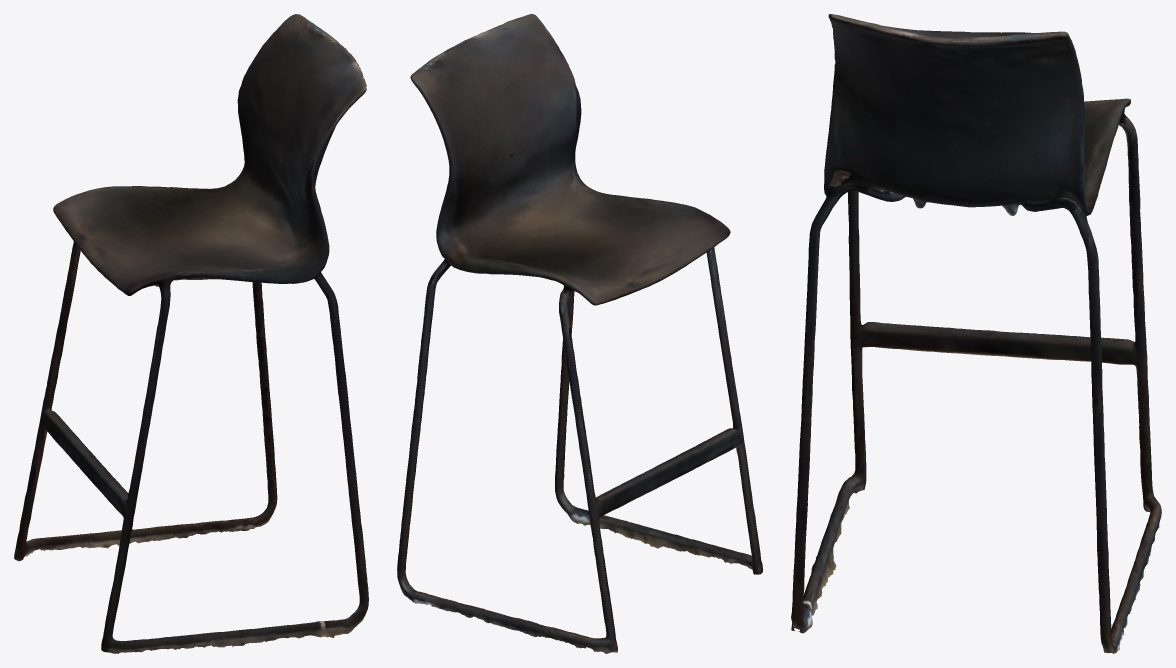
The model's file is black_chair_textured_mesh_lowpoly_glb (1).glb.
The picture shows the model from 3 angles, left to right: view 1: azimuth 30°, elevation 25°; view 2: azimuth 150°, elevation 25°; view 3: azimuth 270°, elevation 25°; orthographic projection. The views are drawn at different scales.
Size of the model in its own units: 1.55 by 2.72 by 1.44.
9 materials, 9 textured.
